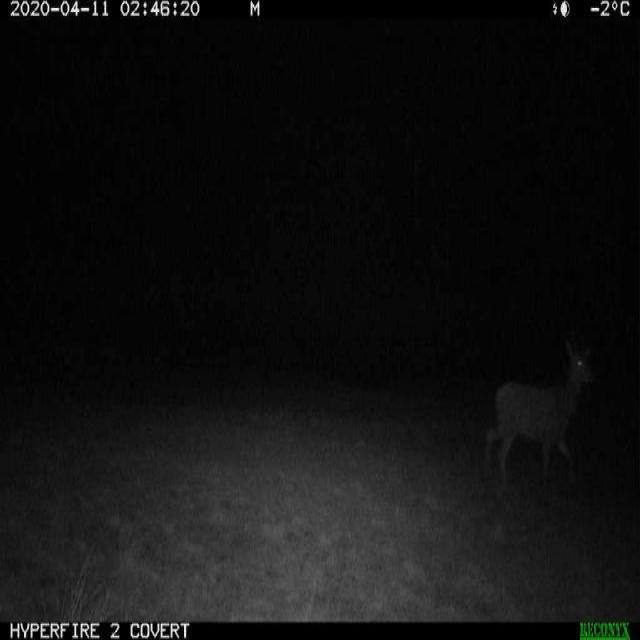deer: (484, 327, 604, 500)
